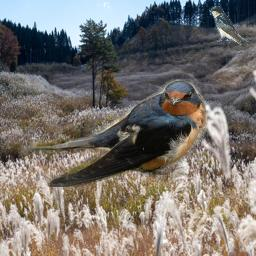Swallow: (14, 79, 207, 187), (209, 6, 252, 47)
